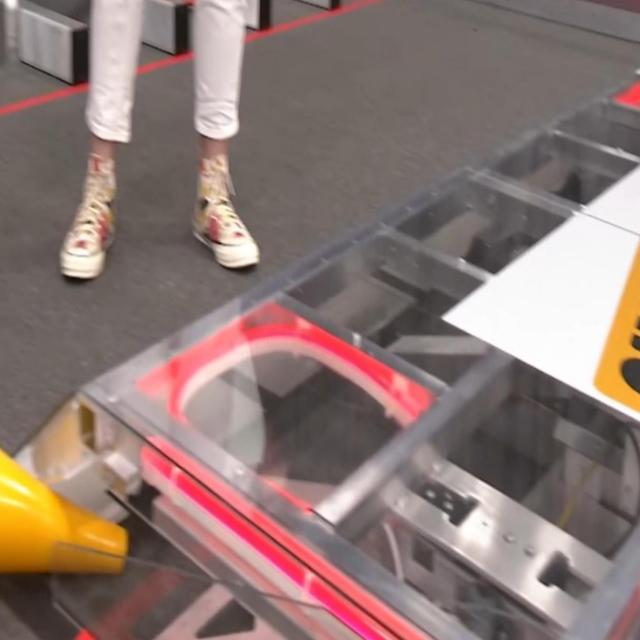frc_cone: (1, 430, 132, 579)
